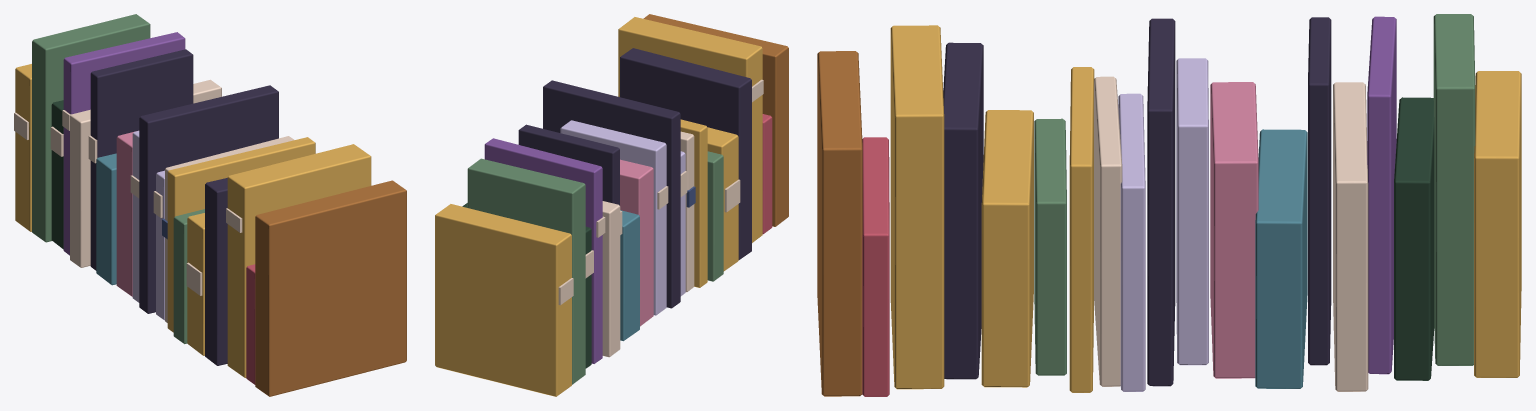
File: books_shelf_4.fbx
The picture shows the model from 3 angles, left to right: view 1: azimuth 30°, elevation 25°; view 2: azimuth 150°, elevation 25°; view 3: azimuth 270°, elevation 25°; orthographic projection. The views are drawn at different scales.
Visible parts, largest first — view 1: books_shelf_4; view 2: books_shelf_4; view 3: books_shelf_4.
Part boxes in pixels (x1,y1,x2,y2): books_shelf_4: [14, 14, 406, 396]; books_shelf_4: [435, 14, 788, 396]; books_shelf_4: [817, 14, 1521, 396].
Bounding box in the file's own units: 0.2428 × 0.2974 × 0.6723.
